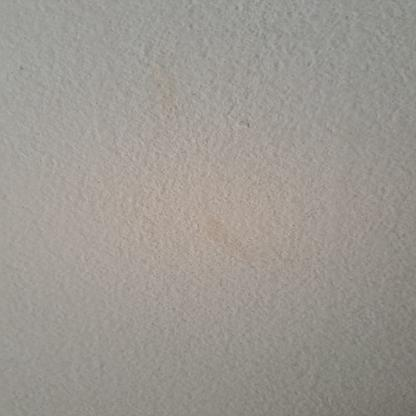spot: (135, 31, 299, 294)
